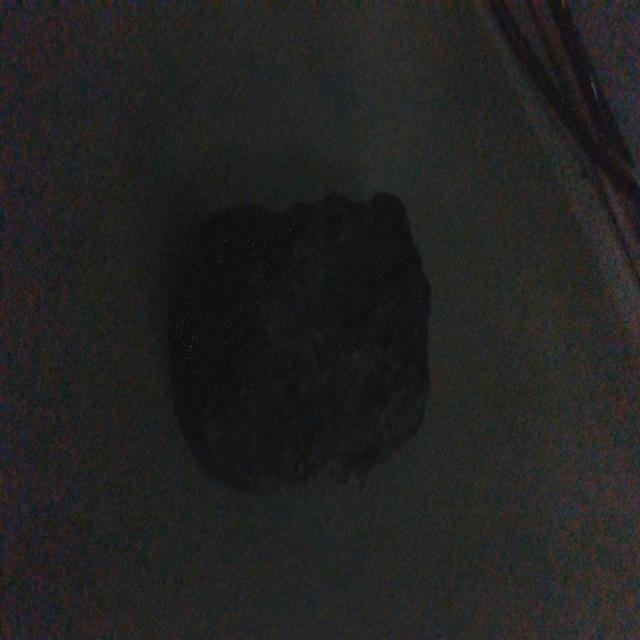stone: (163, 184, 435, 496)
